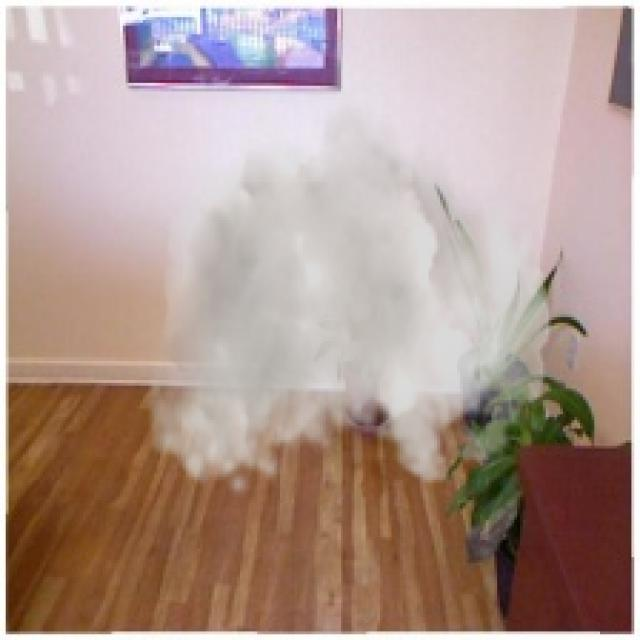smoke: (146, 83, 551, 497)
